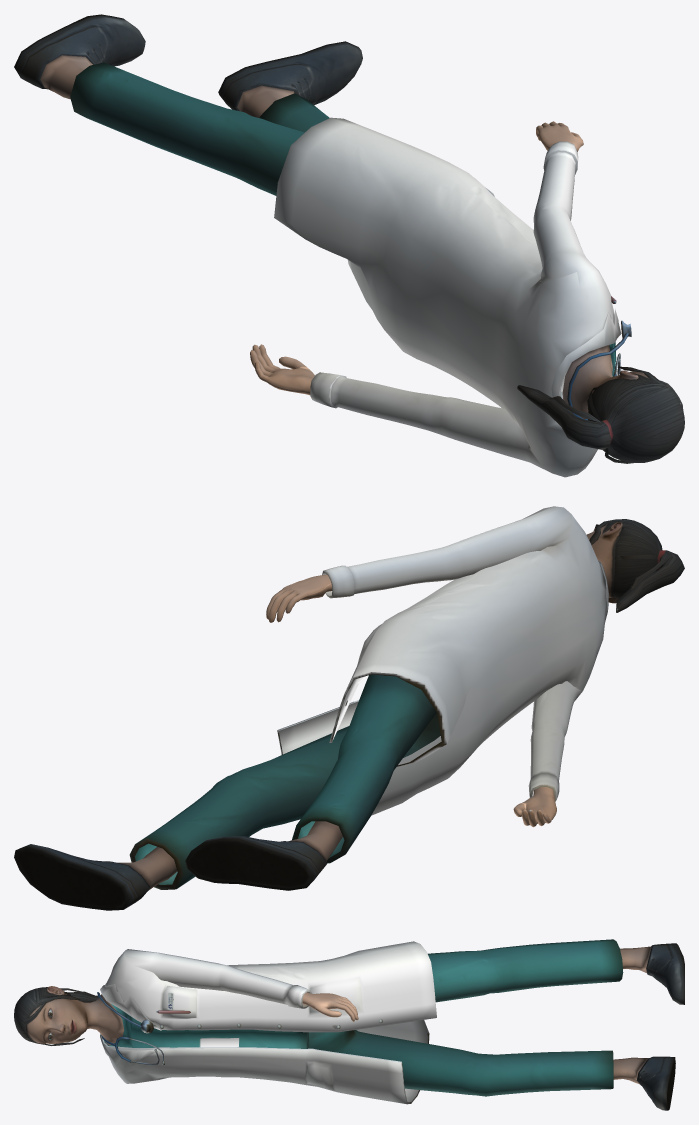
Rendered from walk.obj.
3 renders of one model, top to bottom at view 1: azimuth 30°, elevation 25°; view 2: azimuth 150°, elevation 25°; view 3: azimuth 270°, elevation 25°, orthographic. The views are drawn at different scales.
Bounding box in the file's own units: 0.6731 × 0.3766 × 1.71.
1 material, 1 textured.
